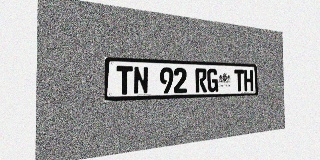2: (174, 67, 187, 93)
9: (160, 67, 174, 93)
G: (207, 68, 218, 92)
H: (244, 70, 253, 91)
N: (133, 66, 148, 94)
R: (195, 68, 207, 92)
T: (116, 66, 133, 95), (234, 69, 244, 91)
